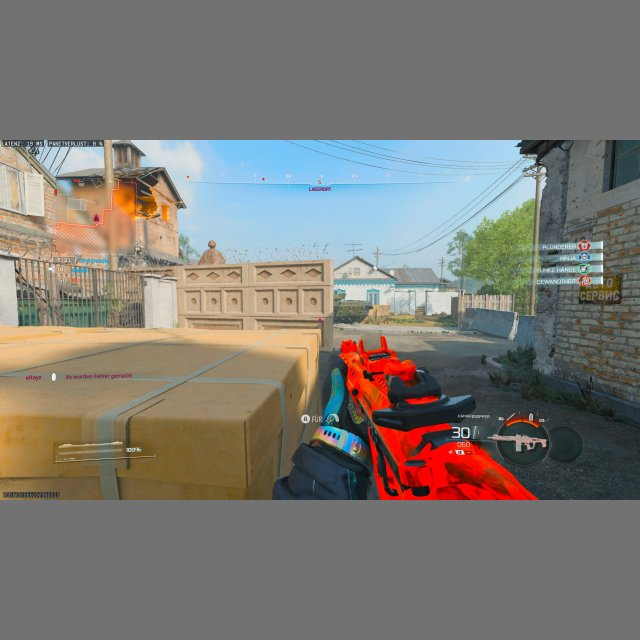player: (333, 298, 343, 319)
